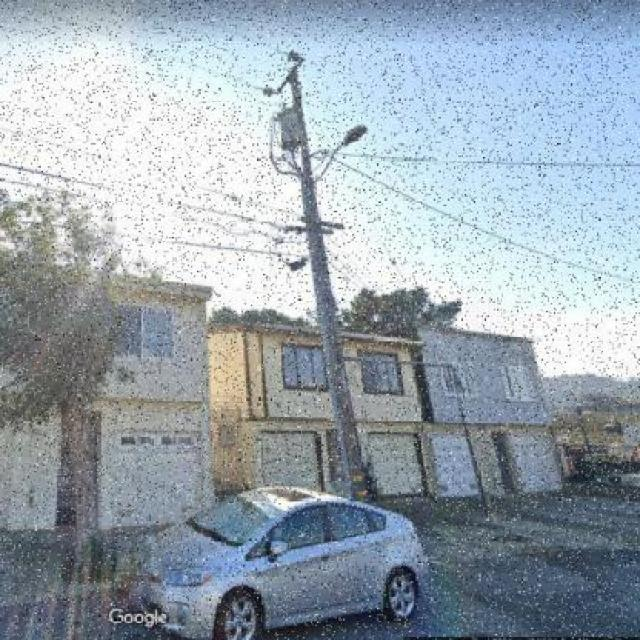pole: (240, 22, 392, 540)
